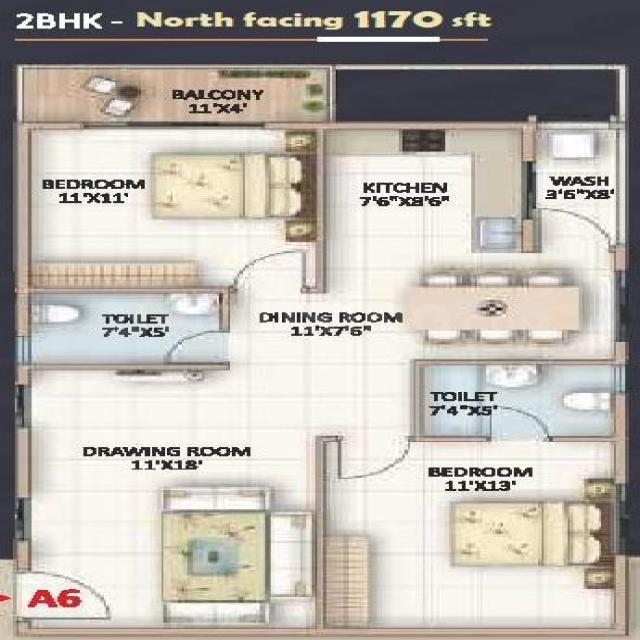Balcony-Sitout: (20, 67, 329, 124)
Bedroom: (25, 128, 319, 291)
Bedroom with Toilet: (318, 360, 620, 631)
Dining: (392, 266, 596, 351)
Enterance-Foyer: (4, 569, 117, 623)
Kitchen: (322, 126, 528, 265)
Living: (25, 367, 315, 631)
Toilet: (29, 292, 220, 363), (422, 366, 612, 437)
Utility: (532, 127, 617, 264)
